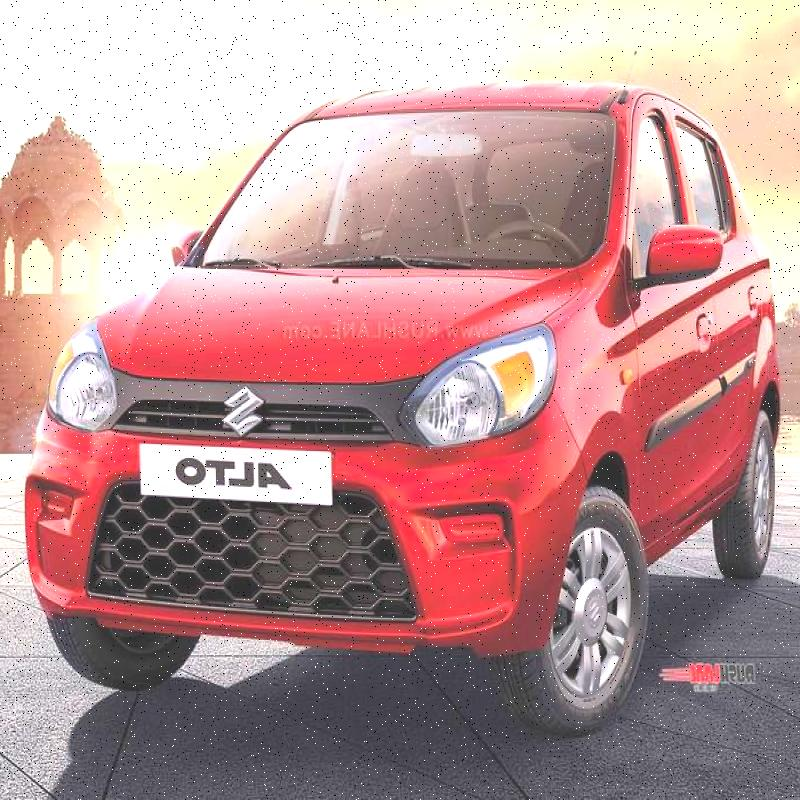car: (38, 58, 770, 741)
